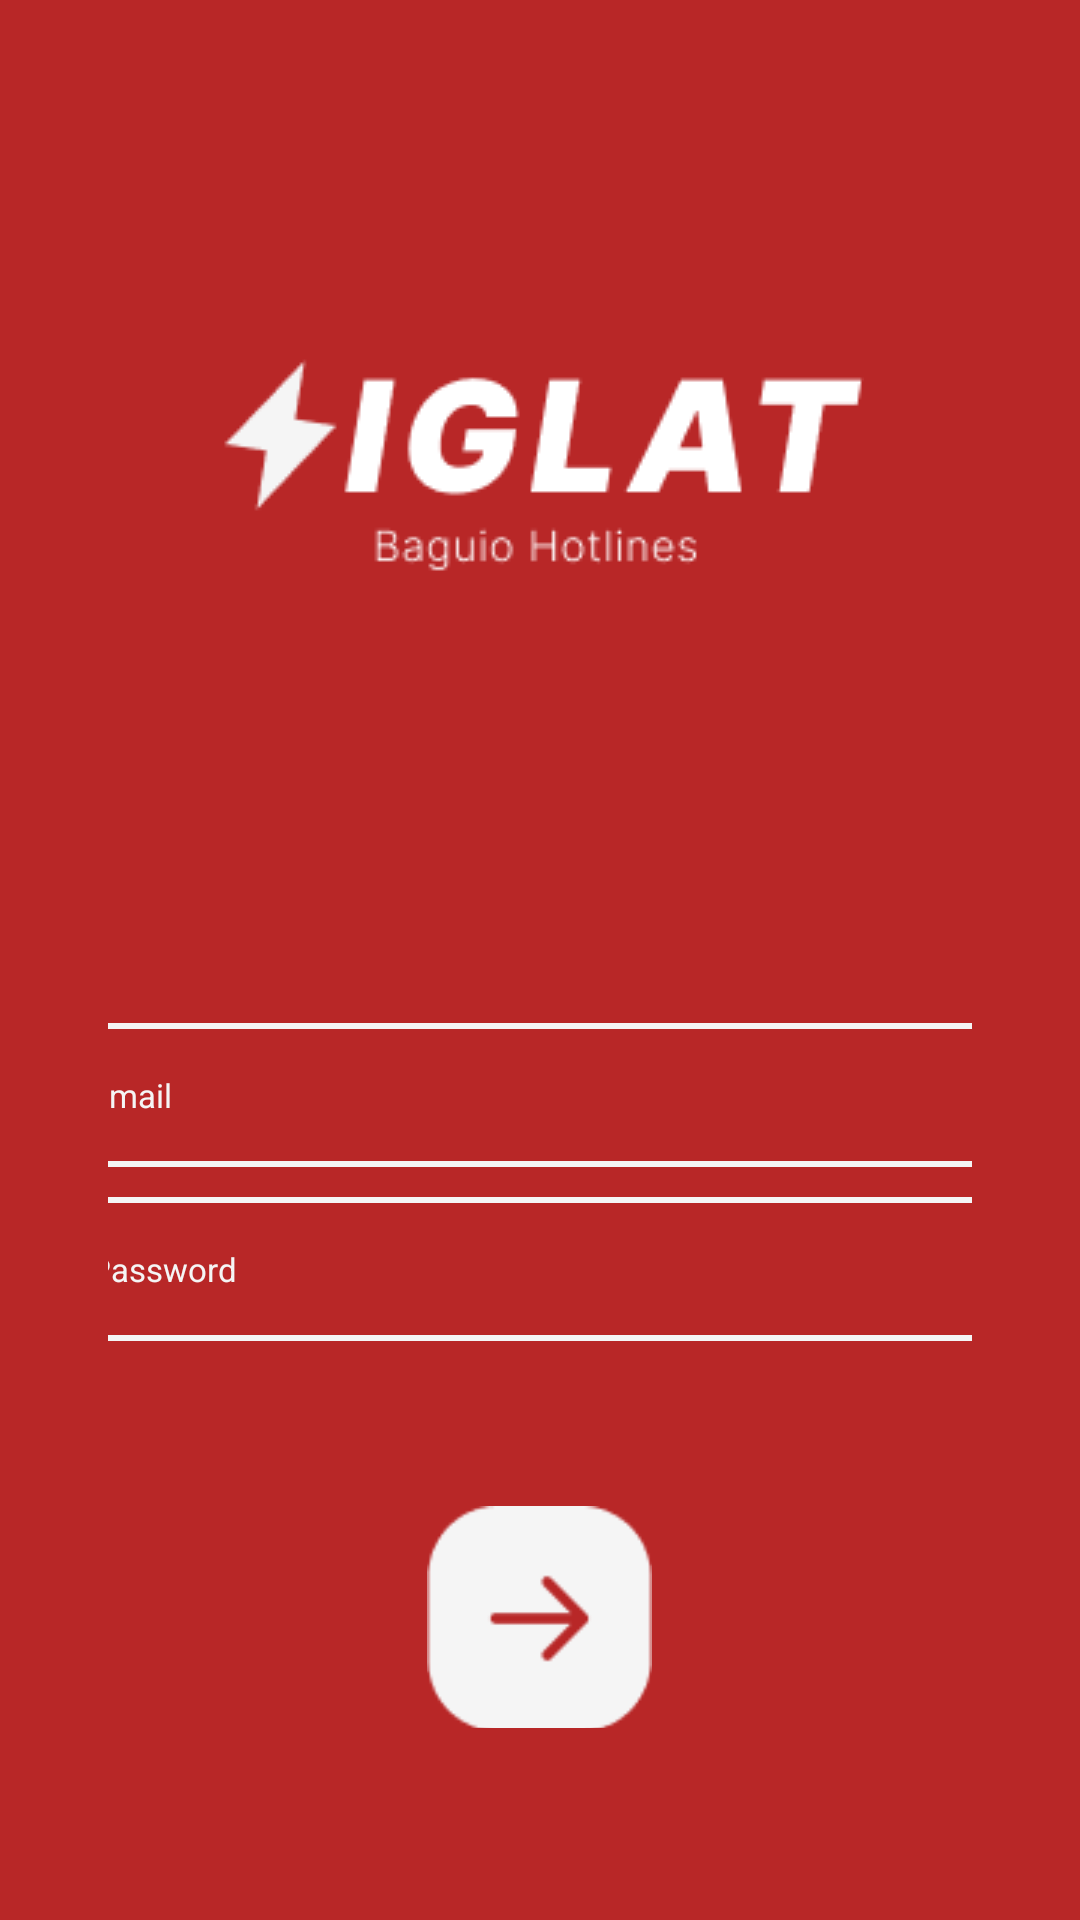

Named icons in this screenshot (1080 x 1920) and their bounding boxes, {"left": x1, "top": y1, "right": x2, "bottom": y2}:
Login Button: {"left": 427, "top": 1506, "right": 652, "bottom": 1728}
